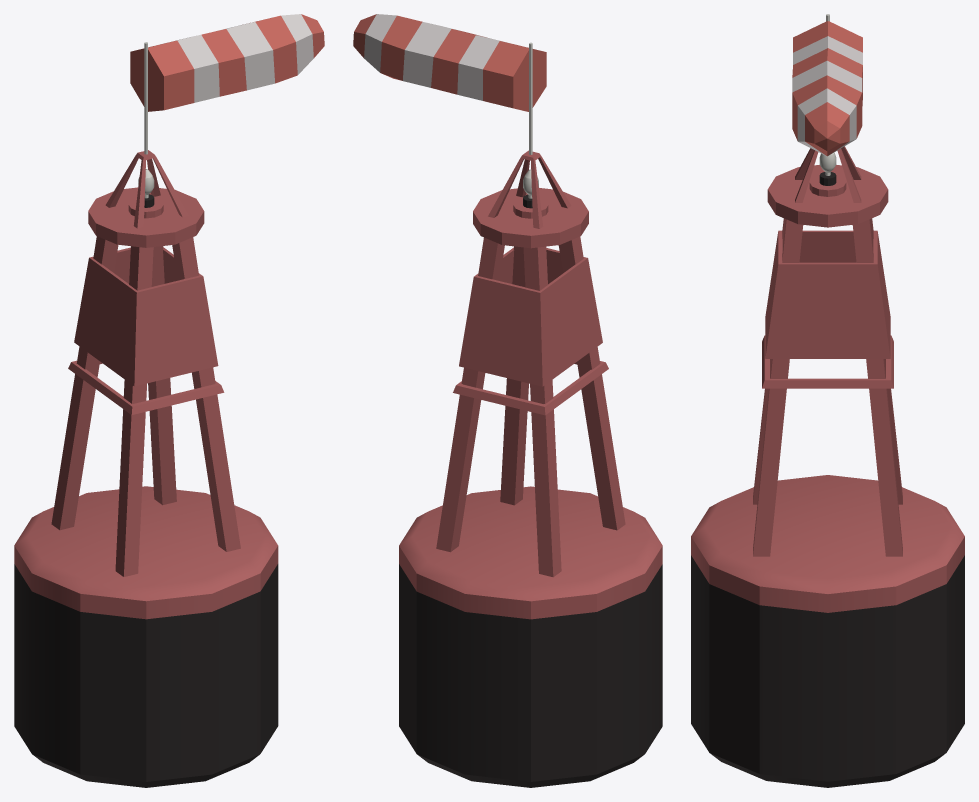
The model's file is Buoys_Pipa2.fbx.
3 renders of one model, left to right at view 1: azimuth 30°, elevation 25°; view 2: azimuth 150°, elevation 25°; view 3: azimuth 270°, elevation 25°, orthographic. The views are drawn at different scales.
Visible parts, largest first — view 1: BuoyPe, BuoyApoio2, BuoyApoio, Vela; view 2: BuoyPe, BuoyApoio2, BuoyApoio, Vela; view 3: BuoyPe, BuoyApoio2, BuoyApoio, Vela.
Boxes of the visible parts, x1,y1,x2,y2 form: BuoyPe: [14, 486, 278, 787]; BuoyApoio2: [68, 187, 224, 414]; BuoyApoio: [51, 150, 240, 576]; Vela: [130, 14, 324, 111]; BuoyPe: [399, 486, 662, 787]; BuoyApoio2: [453, 188, 608, 415]; BuoyApoio: [436, 150, 625, 577]; Vela: [353, 14, 546, 111]; BuoyPe: [691, 475, 964, 787]; BuoyApoio2: [762, 165, 893, 388]; BuoyApoio: [753, 146, 902, 556]; Vela: [792, 21, 862, 156].
Size of the model in its own units: 2.03 by 4.62 by 1.59.
